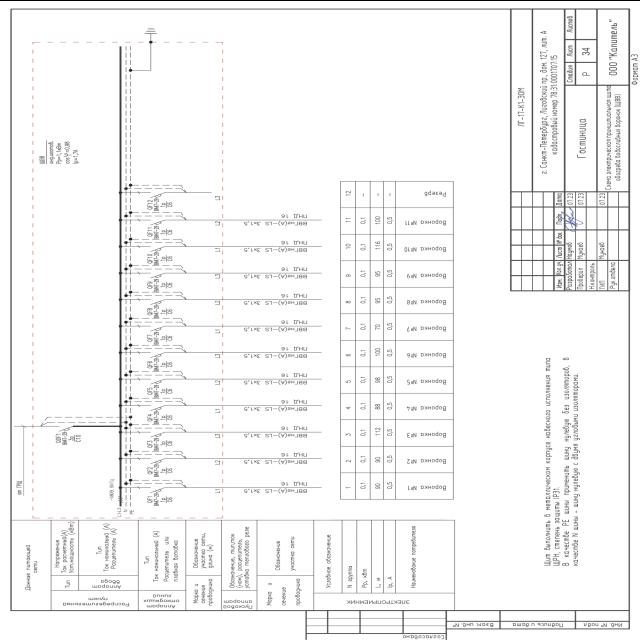-: (152, 304, 174, 318), (152, 463, 174, 477), (152, 224, 174, 238), (154, 356, 174, 371), (154, 409, 174, 424), (153, 492, 174, 506), (153, 383, 174, 397), (153, 436, 174, 450), (62, 430, 82, 444), (154, 278, 174, 292), (154, 250, 174, 264), (153, 197, 173, 211), (154, 330, 174, 344), (37, 152, 47, 164)
QF: (57, 424, 73, 431), (150, 298, 166, 304), (150, 324, 166, 330), (148, 351, 164, 357), (148, 430, 164, 436), (148, 191, 164, 197), (150, 218, 166, 224), (149, 245, 165, 251), (148, 272, 164, 278), (149, 378, 165, 383), (148, 404, 164, 409), (148, 457, 164, 462), (148, 487, 164, 492)
